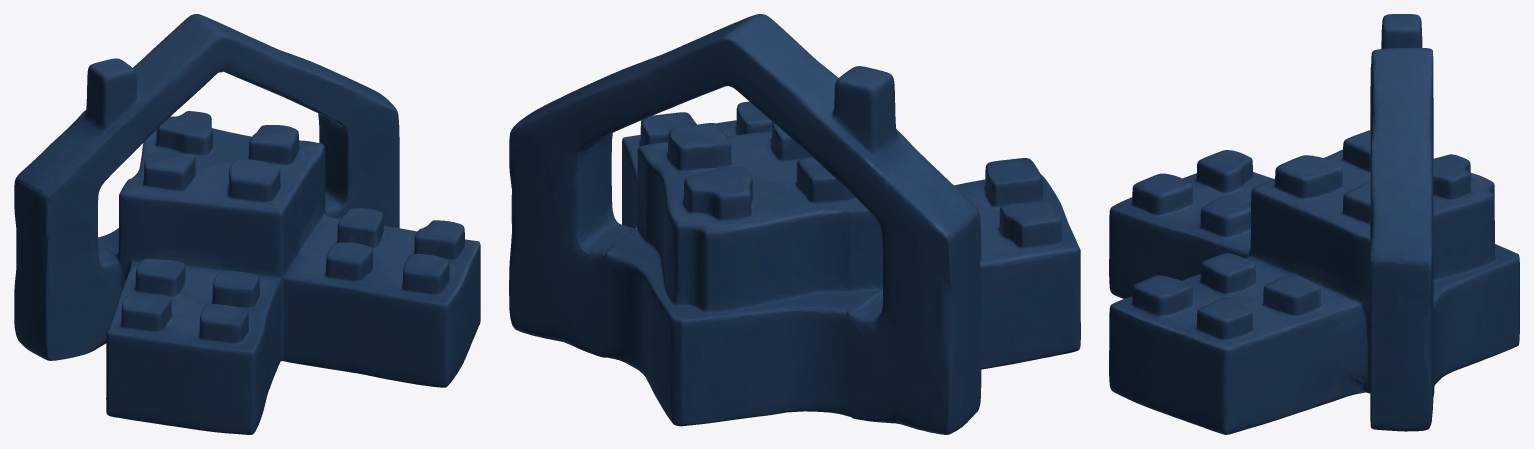
The model's file is producto.glb.
3 views of the same model, side by side, from view 1: azimuth 30°, elevation 25°; view 2: azimuth 150°, elevation 25°; view 3: azimuth 270°, elevation 25° (orthographic). The views are drawn at different scales.
Parts seen in each view (by area): view 1: Mesh_0; view 2: Mesh_0; view 3: Mesh_0.
Part boxes in pixels (box(x1,y1,x2,y2)): Mesh_0: box(14, 14, 480, 434); Mesh_0: box(509, 14, 1080, 434); Mesh_0: box(1109, 14, 1519, 434).
Size of the model in its own units: 1.9 by 1.4 by 1.76.
1 material, 1 textured.
